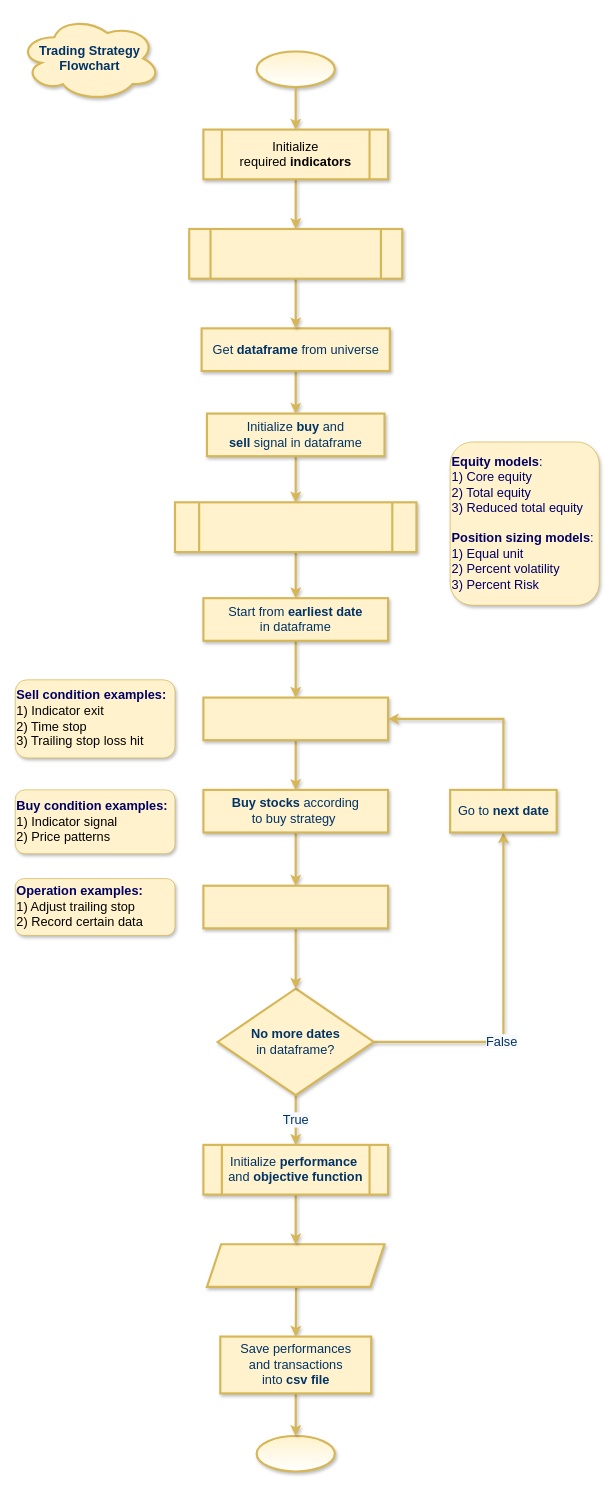
The diagram is 616 pixels wide and 1490 high, and some of its shapes have lost their labels. Here are the shapes that lost their labels. From the top down, the centre of each, then its label:
At point 296,70: "Start".
At point 296,254: "Initialize universe (Stocks, Warrants, Indices)".
At point 296,528: "Initialize portfolio with desired parameters and model".
At point 296,719: "Sell stocks in portfolio if sell conditions met".
At point 296,907: "Do any operations that are related to strategy".
At point 296,1266: "Output all performances of strategy".
At point 296,1454: "End".
